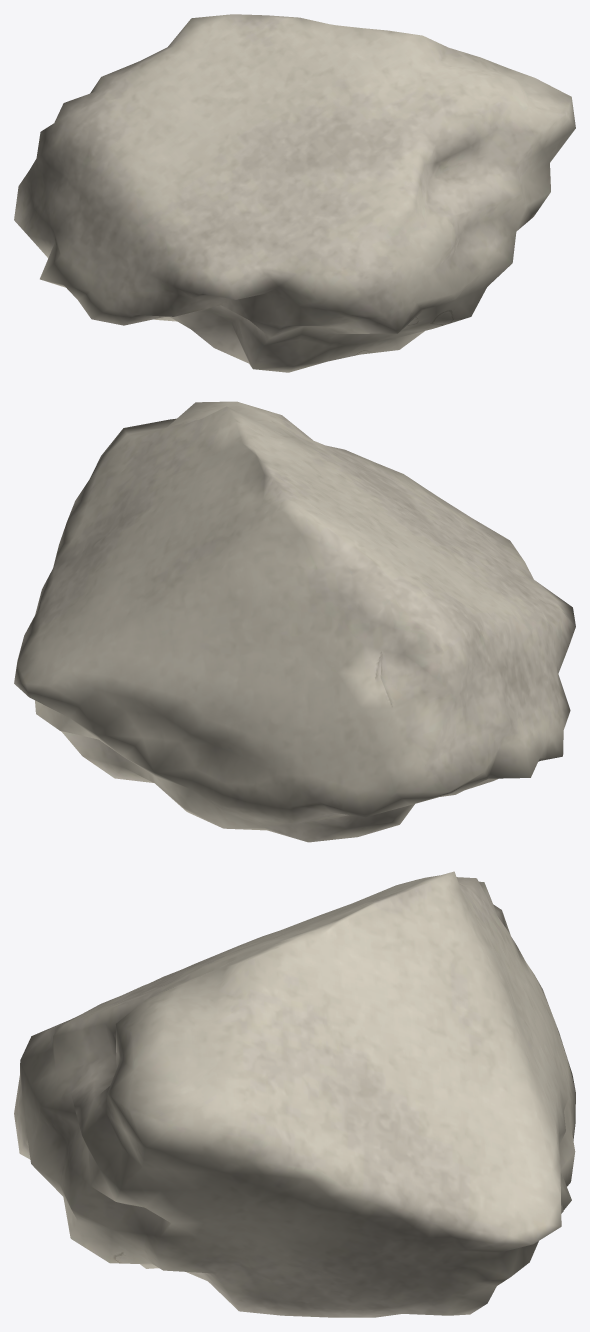
Rendered from rock-limestone.glb.
3 views of the same model, one above another, from view 1: azimuth 30°, elevation 25°; view 2: azimuth 150°, elevation 25°; view 3: azimuth 270°, elevation 25° (orthographic). The views are drawn at different scales.
Parts seen in each view (by area): view 1: stone; view 2: stone; view 3: stone.
Part boxes in pixels (box(x1,y1,x2,y2)): stone: box(14, 14, 575, 372); stone: box(14, 401, 575, 842); stone: box(14, 871, 575, 1317).
Bounding box in the file's own units: 0.8773 × 0.518 × 0.7436.
Materials: 1 (1 with a texture image).
